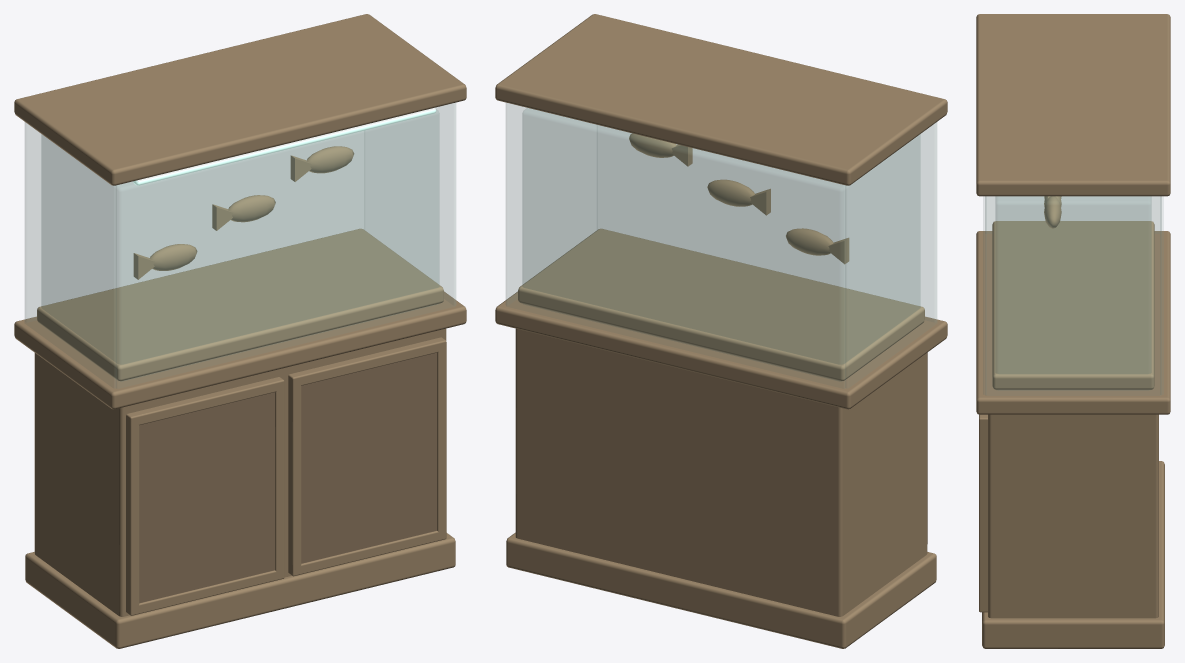
The model's file is aquarium.glb.
3 renders of one model, left to right at view 1: azimuth 30°, elevation 25°; view 2: azimuth 150°, elevation 25°; view 3: azimuth 270°, elevation 25°, orthographic. The views are drawn at different scales.
Visible parts, largest first — view 1: contained-water, front-back-glass-1, supported-tank-lid, tank-gravel, door--0-31-inset, door-0-31-inset, aquarium-cabinet, end-glass--1, cabinet-plinth, tank-base, door--0-31-stile--1, door-0-31-stile--1 (+10 smaller); view 2: aquarium-cabinet, contained-water, front-back-glass--1, supported-tank-lid, tank-gravel, end-glass--1, cabinet-plinth, tank-base, fish-0, fish-1, fish-2; view 3: supported-tank-lid, end-glass-1, aquarium-cabinet, contained-water, tank-gravel, tank-base, cabinet-plinth, door-0-31-stile-1, fish-2, front-back-glass--1, front-back-glass-1.
Boxes of the visible parts, left/top/right/bottom form: contained-water: left=41, top=109, right=439, bottom=381; front-back-glass-1: left=116, top=103, right=455, bottom=388; supported-tank-lid: left=14, top=14, right=466, bottom=185; tank-gravel: left=37, top=228, right=443, bottom=381; door--0-31-inset: left=139, top=392, right=274, bottom=603; door-0-31-inset: left=301, top=352, right=436, bottom=563; aquarium-cabinet: left=34, top=328, right=446, bottom=616; end-glass--1: left=25, top=123, right=115, bottom=387; cabinet-plinth: left=25, top=533, right=455, bottom=648; tank-base: left=14, top=291, right=466, bottom=409; door--0-31-stile--1: left=126, top=412, right=139, bottom=615; door-0-31-stile--1: left=288, top=373, right=301, bottom=575; aquarium-cabinet: left=515, top=328, right=927, bottom=616; contained-water: left=522, top=108, right=920, bottom=381; front-back-glass--1: left=506, top=103, right=845, bottom=388; supported-tank-lid: left=495, top=14, right=947, bottom=185; tank-gravel: left=518, top=228, right=924, bottom=381; end-glass--1: left=846, top=123, right=936, bottom=387; cabinet-plinth: left=506, top=532, right=936, bottom=648; tank-base: left=495, top=291, right=947, bottom=409; fish-0: left=786, top=228, right=833, bottom=255; fish-1: left=707, top=179, right=754, bottom=206; fish-2: left=629, top=133, right=676, bottom=157; supported-tank-lid: left=976, top=14, right=1170, bottom=196; end-glass-1: left=985, top=197, right=1161, bottom=395; aquarium-cabinet: left=988, top=414, right=1158, bottom=618; contained-water: left=995, top=196, right=1151, bottom=390; tank-gravel: left=992, top=221, right=1154, bottom=389; tank-base: left=976, top=231, right=1170, bottom=414; cabinet-plinth: left=982, top=461, right=1164, bottom=648; door-0-31-stile-1: left=979, top=414, right=987, bottom=611; fish-2: left=1044, top=196, right=1061, bottom=228; front-back-glass--1: left=1162, top=197, right=1163, bottom=394; front-back-glass-1: left=983, top=197, right=984, bottom=394.
Size of the model in its own units: 1.36 by 1.77 by 0.66.
